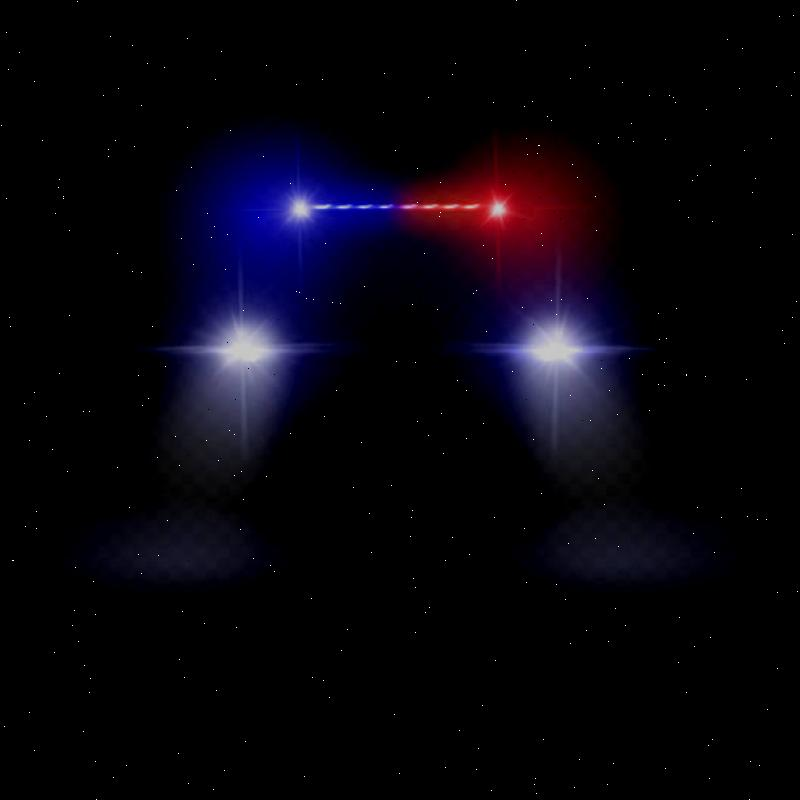AmbulanceSiren: (271, 185, 516, 251)
